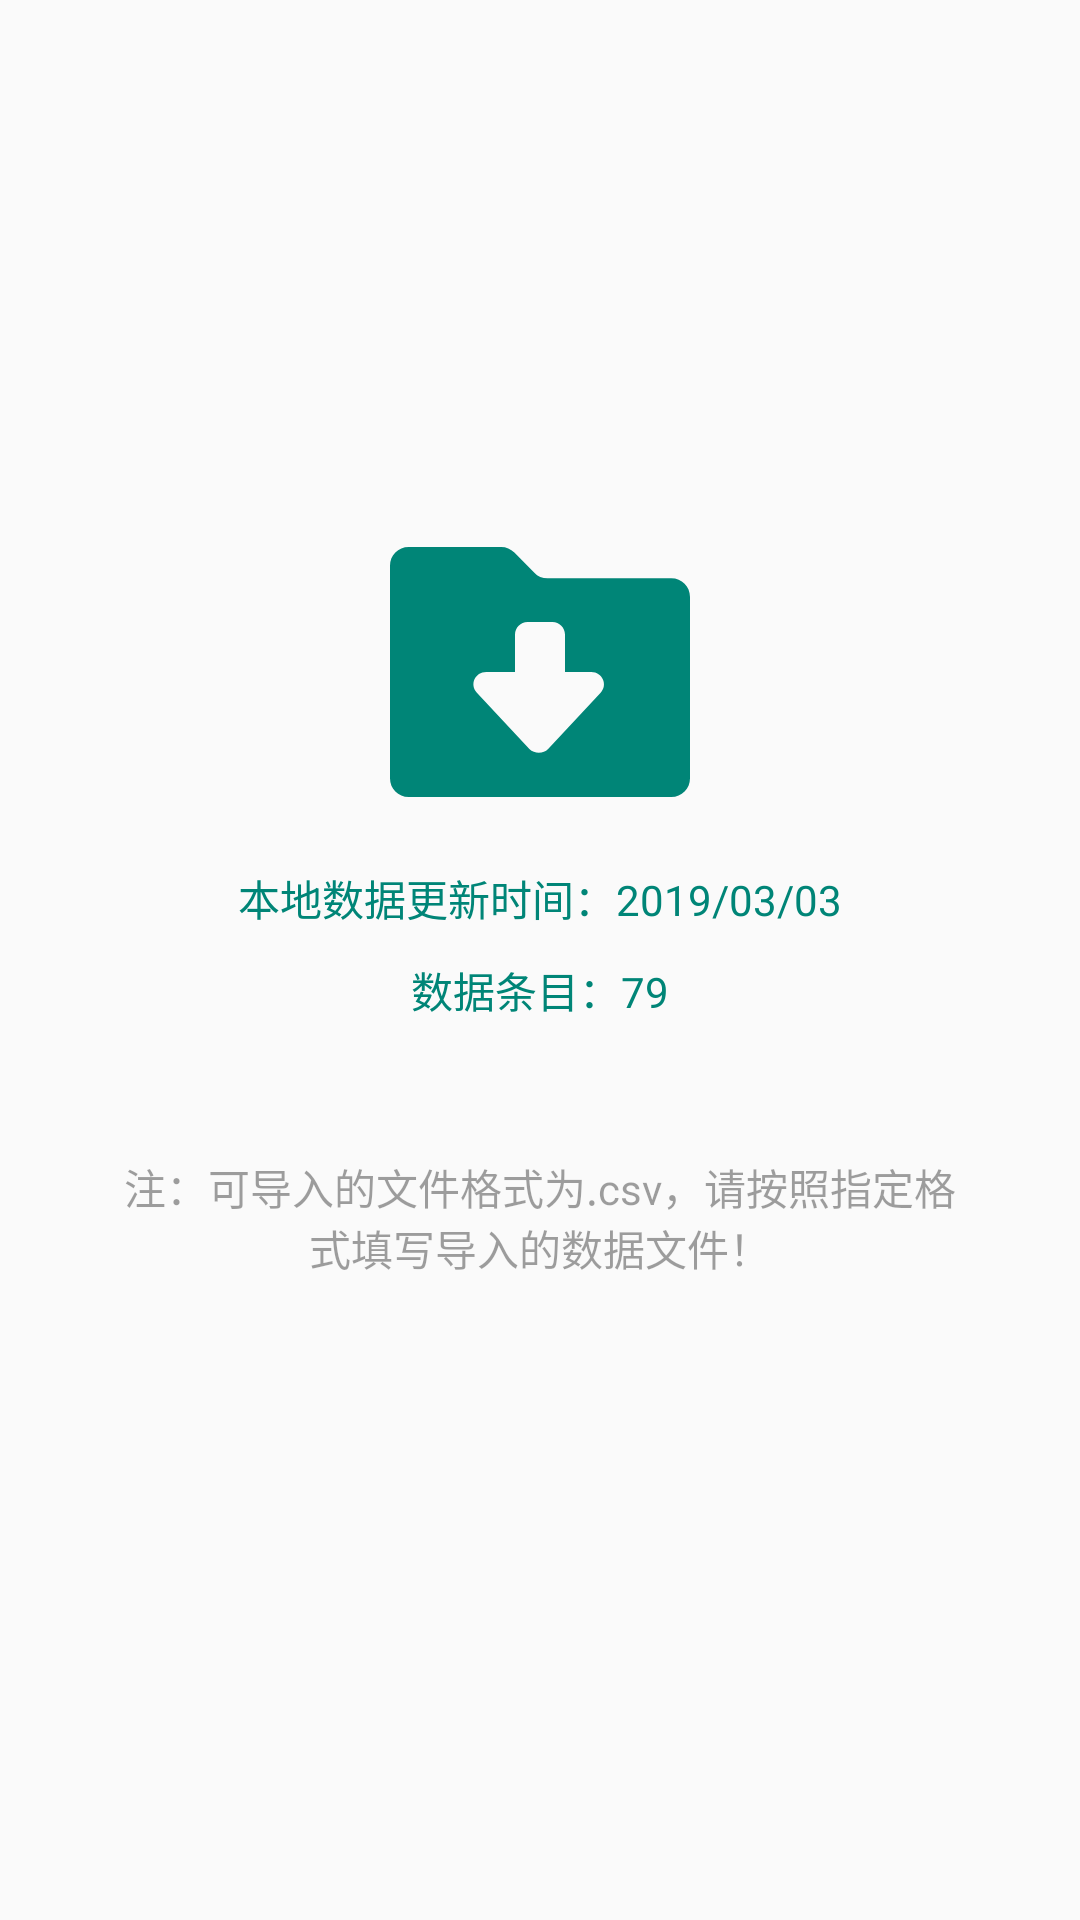

Icon click points for this 1080 x 1920 phone screenshot, format (x=x, y=y):
daoru tianchong: (x=540, y=672)
